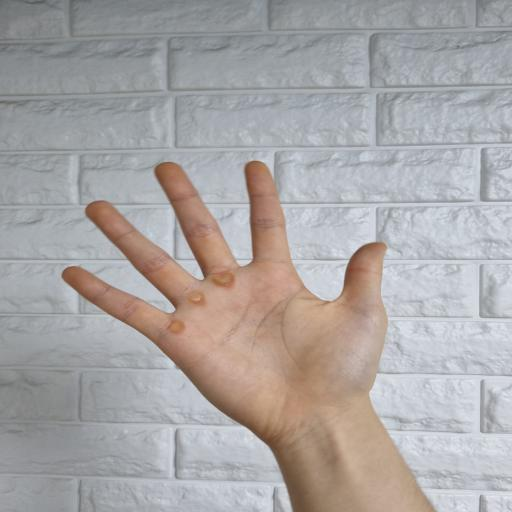Paper: (60, 157, 390, 444)
